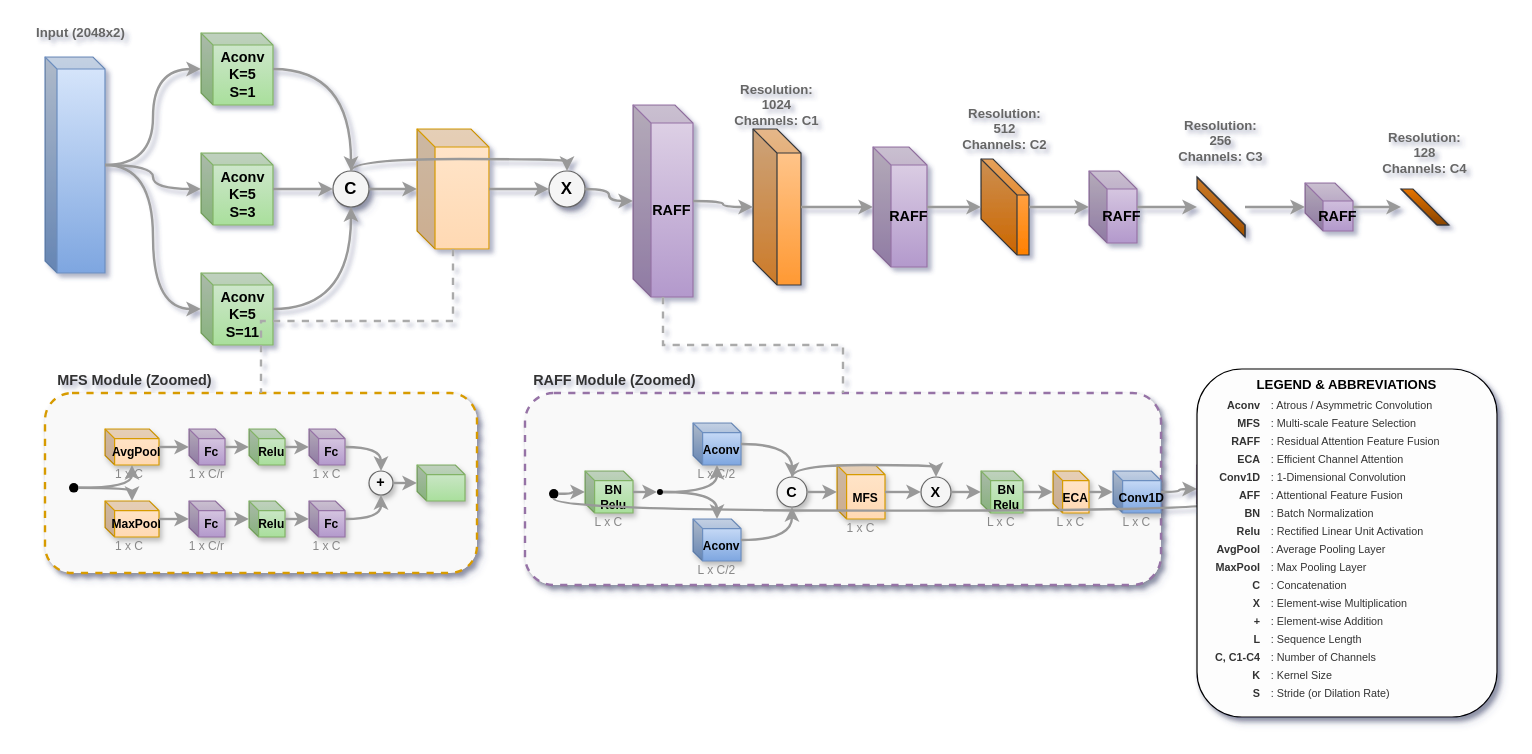
Image size: 1532x754. Some labels were removed from this diagram. The shapes that lost their labels are listed below. From the top down, each one's centre as x and y in pixels, then its label:
At (74,164): "IQ Signal 2048x2".
At (452,188): "MFS Module".
At (776,206): "F1 1024 x C1".
At (1004,206): "F2 512 x C2".
At (1220,206): "F3 256 x C3".
At (1424,206): "F4 128 x C4".
At (441,484): "Sigmoid".
